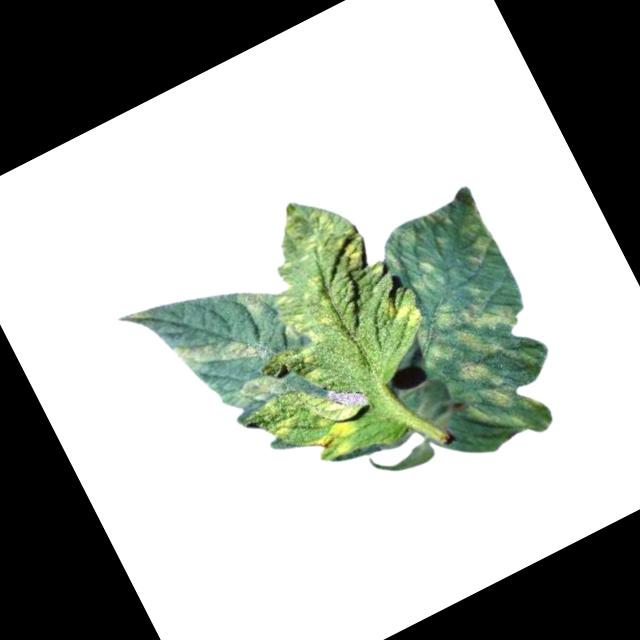Leaf_Mold: (409, 280, 565, 463), (239, 180, 400, 351), (374, 201, 478, 302), (172, 310, 273, 394), (295, 406, 368, 472), (222, 360, 297, 422), (446, 195, 509, 267), (380, 289, 426, 334)
